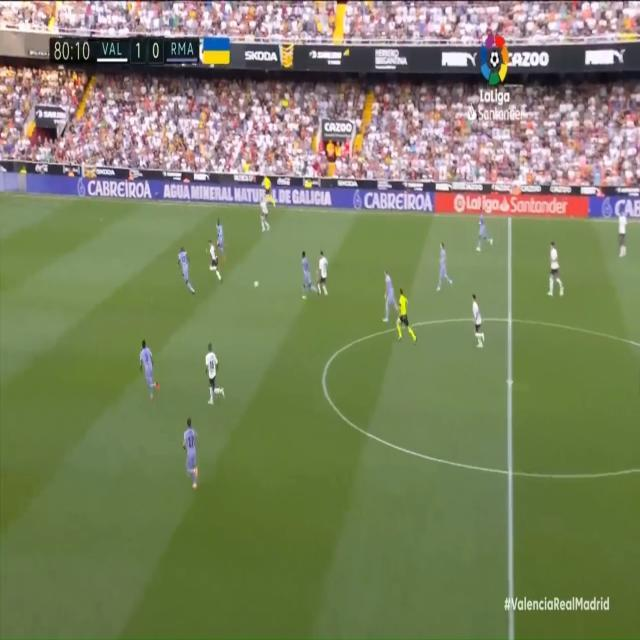ball: (254, 277, 259, 288)
player: (201, 344, 226, 407), (138, 338, 162, 403), (184, 418, 200, 490), (470, 289, 487, 351), (549, 238, 567, 296), (383, 271, 400, 325), (437, 239, 454, 292), (178, 245, 196, 292), (475, 208, 492, 257), (205, 242, 223, 284), (302, 249, 317, 299), (615, 206, 629, 256), (317, 248, 330, 301), (215, 218, 226, 261), (258, 195, 270, 232)
referee: (396, 282, 417, 343), (261, 171, 276, 208)
